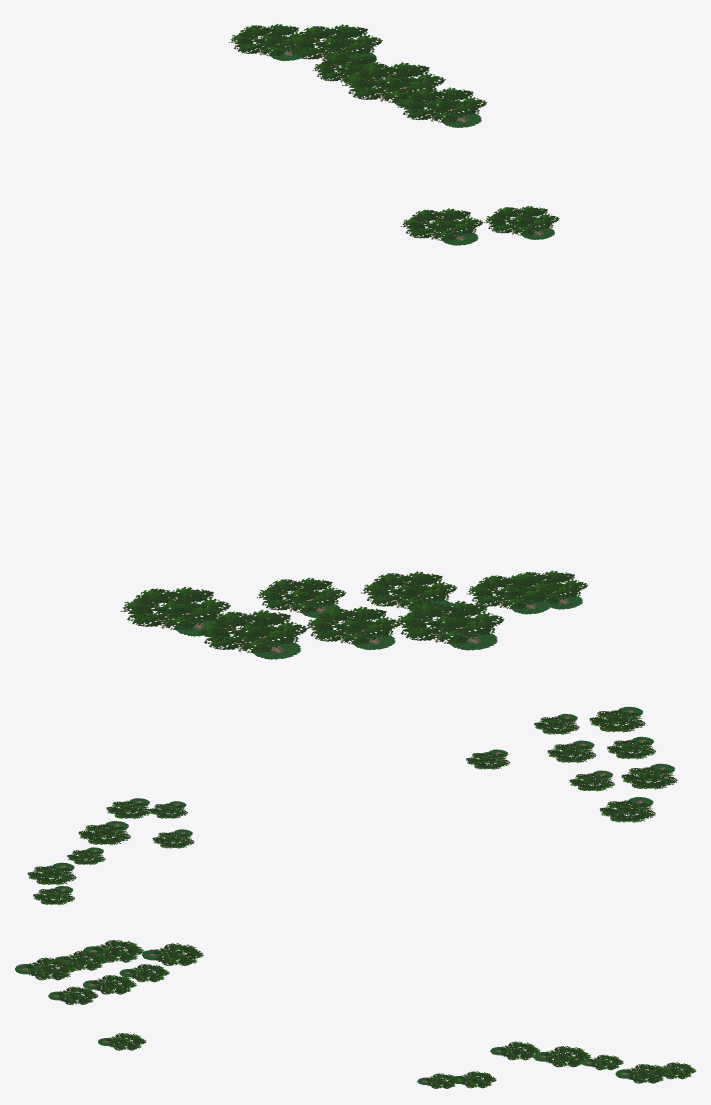
Rendered from glf_map_fc9__glf_tree_fc9.glb.
3 views of the same model, one above another, from view 1: azimuth 30°, elevation 25°; view 2: azimuth 150°, elevation 25°; view 3: azimuth 270°, elevation 25° (orthographic). The views are drawn at different scales.
Parts seen in each view (by area): view 1: polygon0; view 2: polygon0; view 3: polygon0.
Part boxes in pixels (box(x1,y1,x2,y2)): polygon0: box(120, 23, 587, 659); polygon0: box(27, 706, 677, 905); polygon0: box(15, 940, 696, 1088).
Size of the model in its own units: 1701 by 275 by 2753.
1 material, 1 textured.
